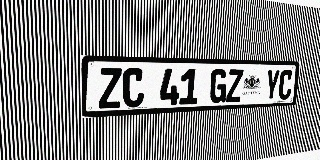1: (179, 69, 199, 105)
4: (160, 68, 180, 106)
C: (122, 68, 144, 108), (278, 70, 293, 100)
G: (209, 69, 228, 103)
Y: (264, 70, 280, 101)
Z: (99, 68, 122, 109), (226, 69, 243, 102)
